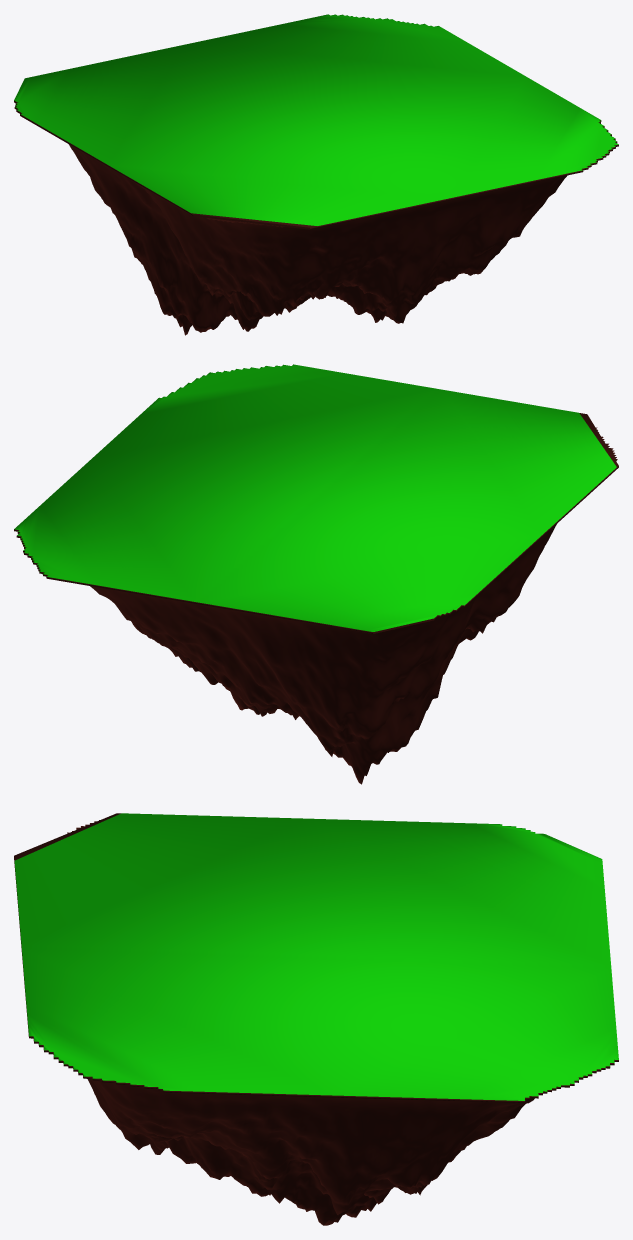
Rendered from island.obj.
The picture shows the model from 3 angles, top to bottom: view 1: azimuth 30°, elevation 25°; view 2: azimuth 150°, elevation 25°; view 3: azimuth 270°, elevation 25°; orthographic projection. The views are drawn at different scales.
Parts seen in each view (by area): view 1: Maillage; view 2: Maillage; view 3: Maillage.
Part boxes in pixels (box(x1,y1,x2,y2)): Maillage: box(14, 14, 618, 335); Maillage: box(14, 364, 618, 784); Maillage: box(14, 813, 618, 1225).
Size of the model in its own units: 2.05 by 1.09 by 2.05.
